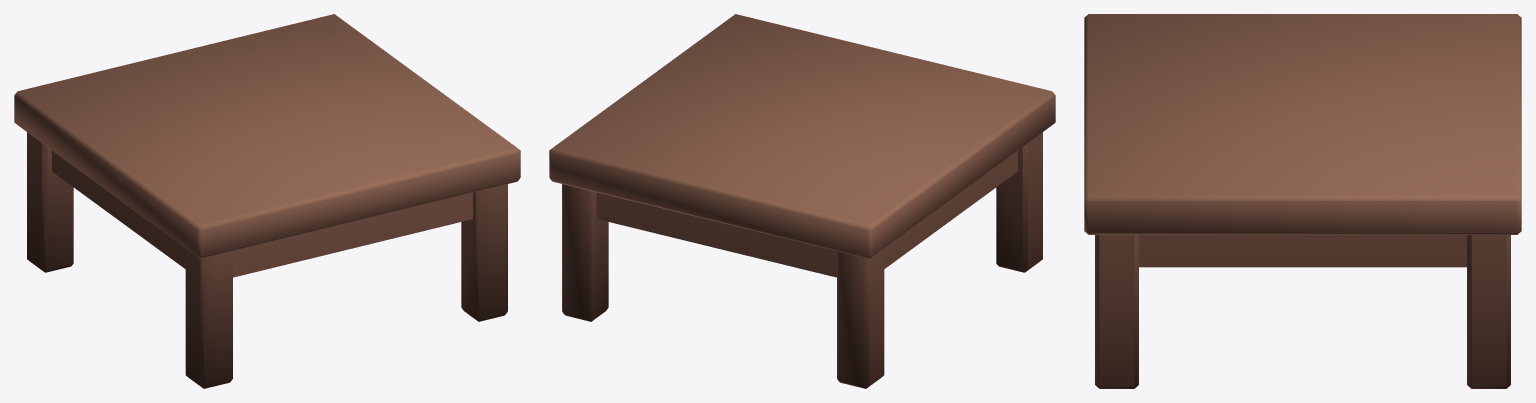
The model's file is table-medium.glb.
The picture shows the model from 3 angles, left to right: view 1: azimuth 30°, elevation 25°; view 2: azimuth 150°, elevation 25°; view 3: azimuth 270°, elevation 25°; orthographic projection. The views are drawn at different scales.
Parts seen in each view (by area): view 1: table-medium; view 2: table-medium; view 3: table-medium.
Boxes of the visible parts, x1,y1,x2,y2 form: table-medium: (14, 14, 520, 388); table-medium: (549, 14, 1055, 388); table-medium: (1084, 14, 1521, 388).
Bounding box in the file's own units: 1.52 × 0.7601 × 1.52.
